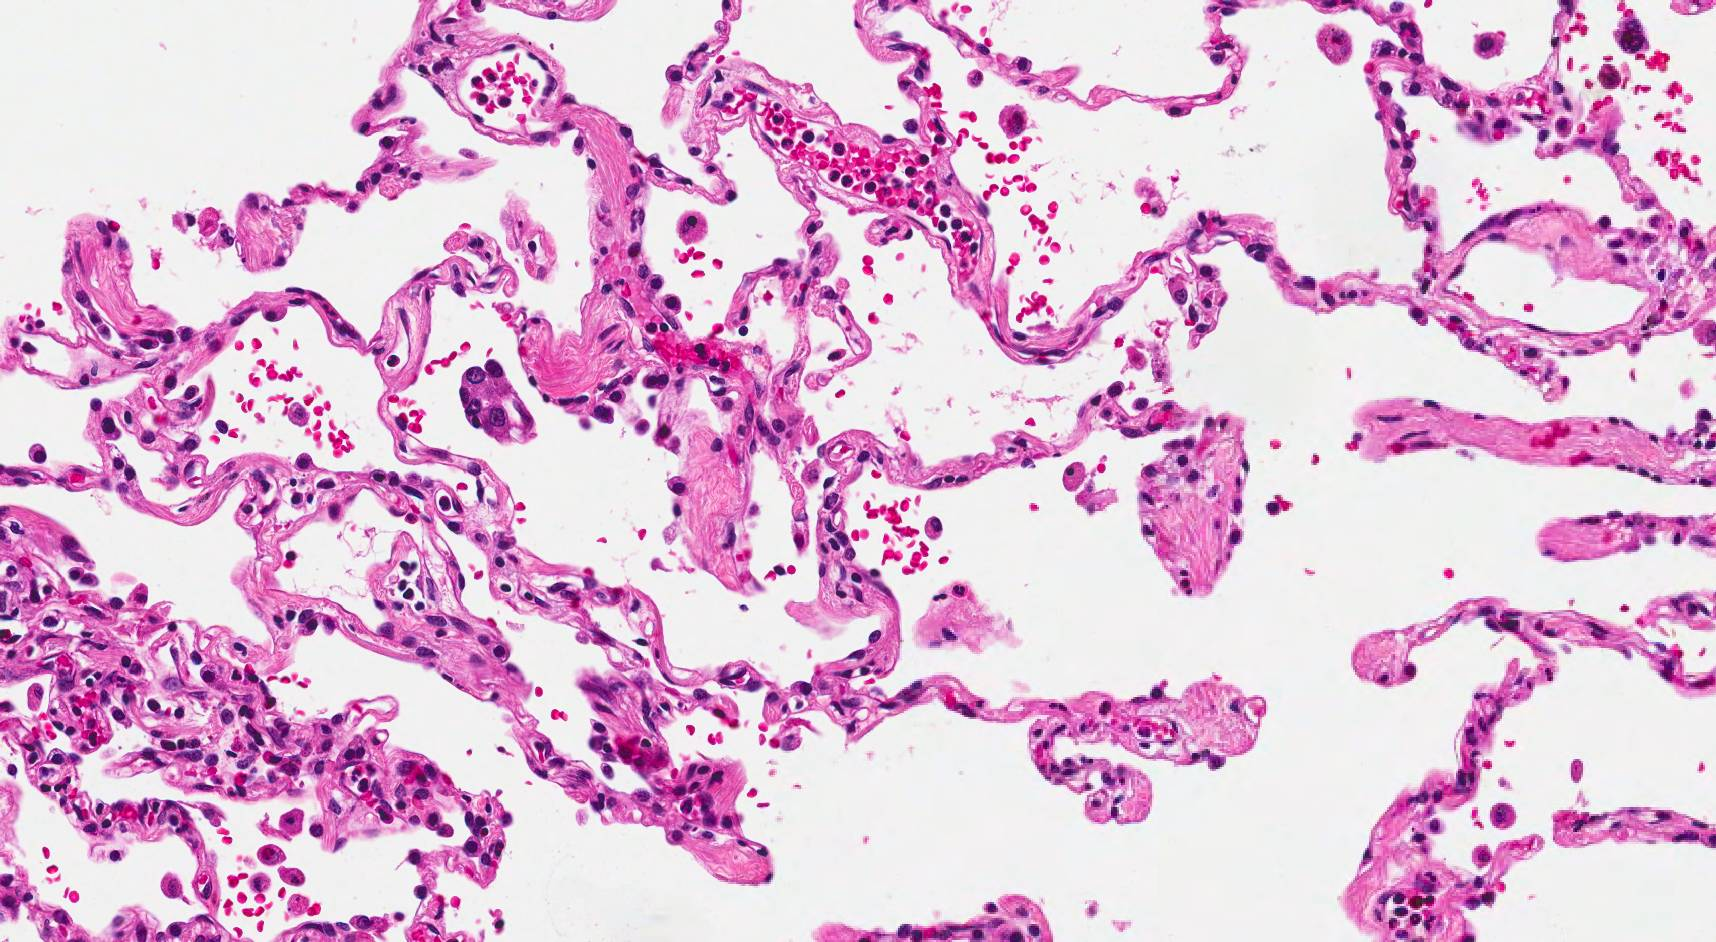stas: (460, 360, 535, 446), (1611, 11, 1652, 55)
